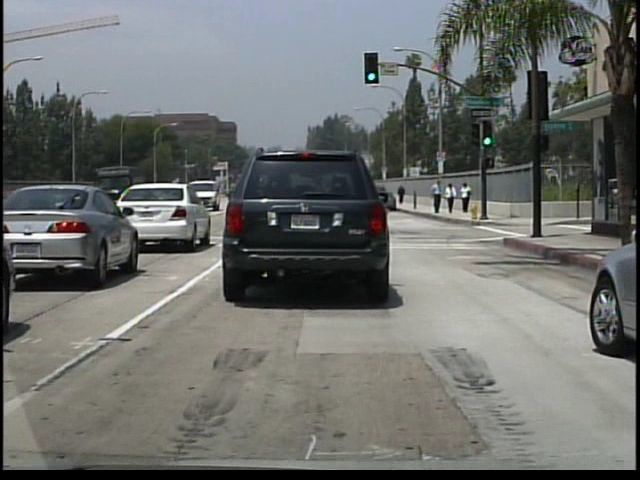person: (434, 178, 447, 216), (446, 182, 459, 216), (461, 182, 474, 215), (397, 184, 407, 206)
